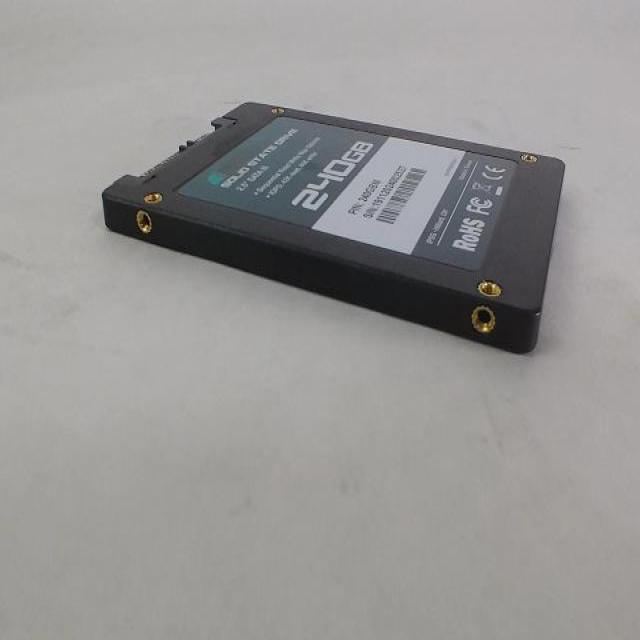DISK: (100, 99, 568, 358)
